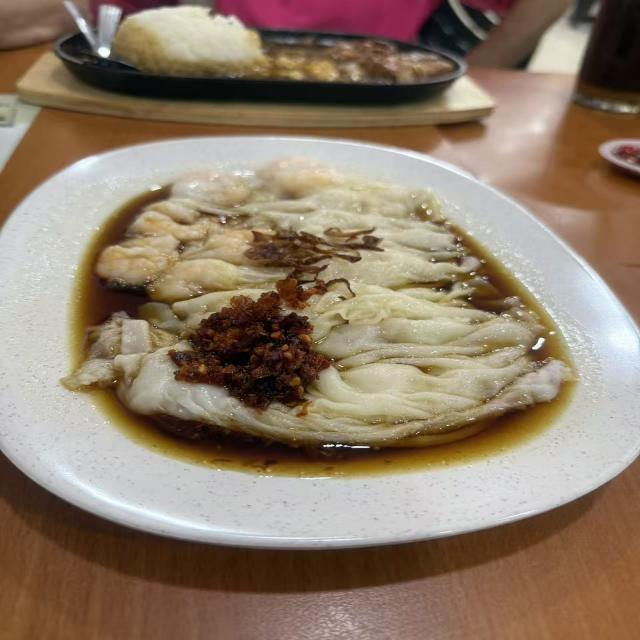Chee Cheong Fun: (78, 130, 583, 507)
